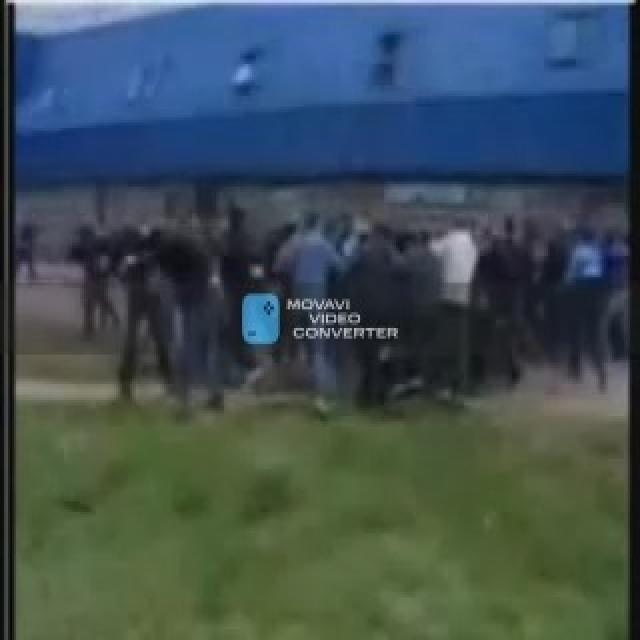non-voilence: (2, 0, 638, 637), (62, 189, 630, 419)
